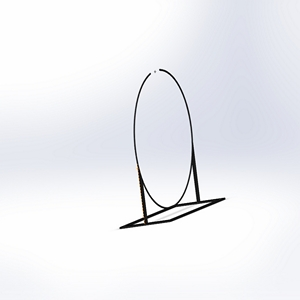circle: (119, 67, 226, 229)
